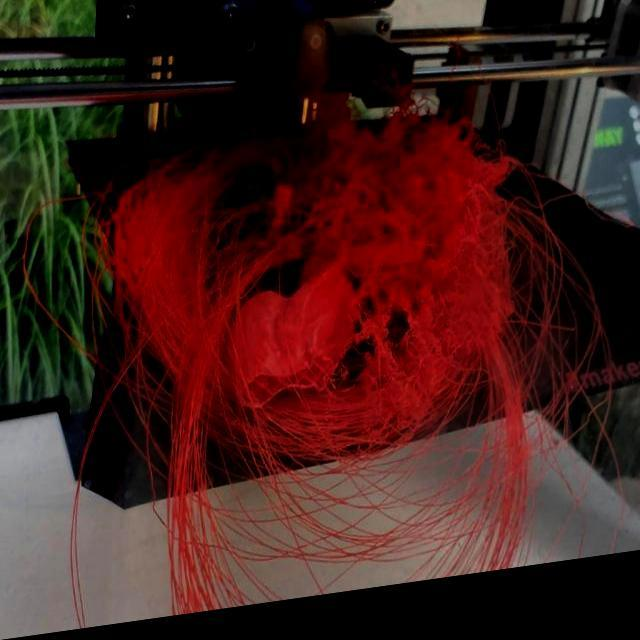spaghetti: (90, 66, 614, 564)
